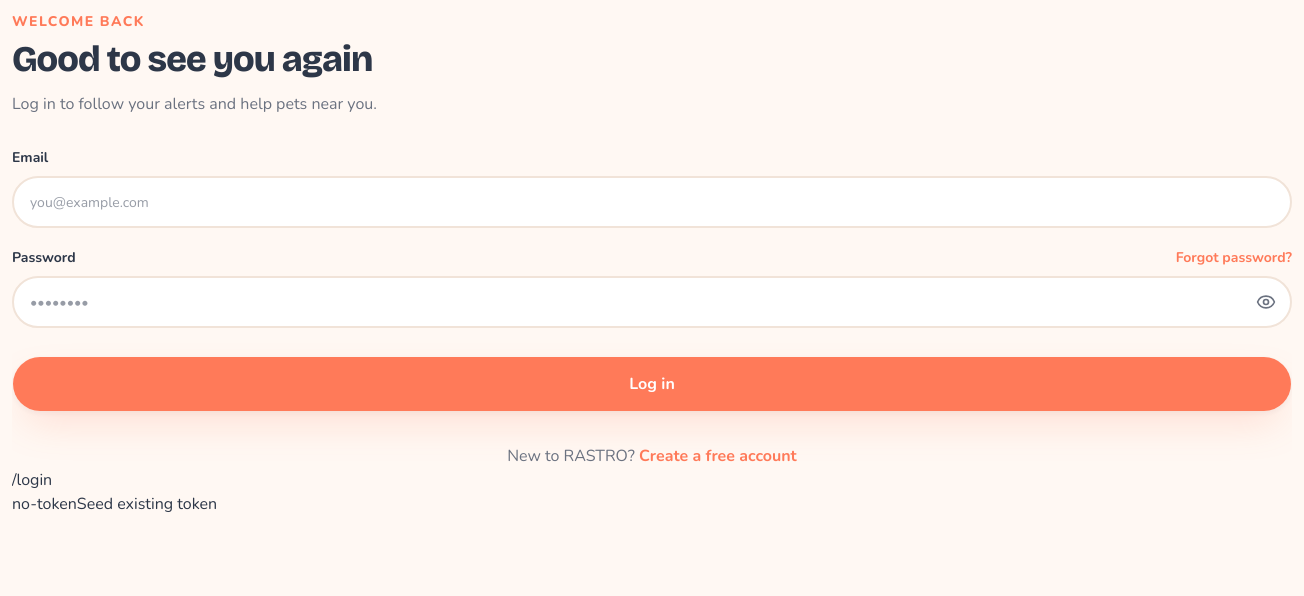
LoginForm › rejects an invalid access token returned by the backend
Type "person@example.com" into the field labelled "Email" at (652, 202), box [12,176,1292,228]
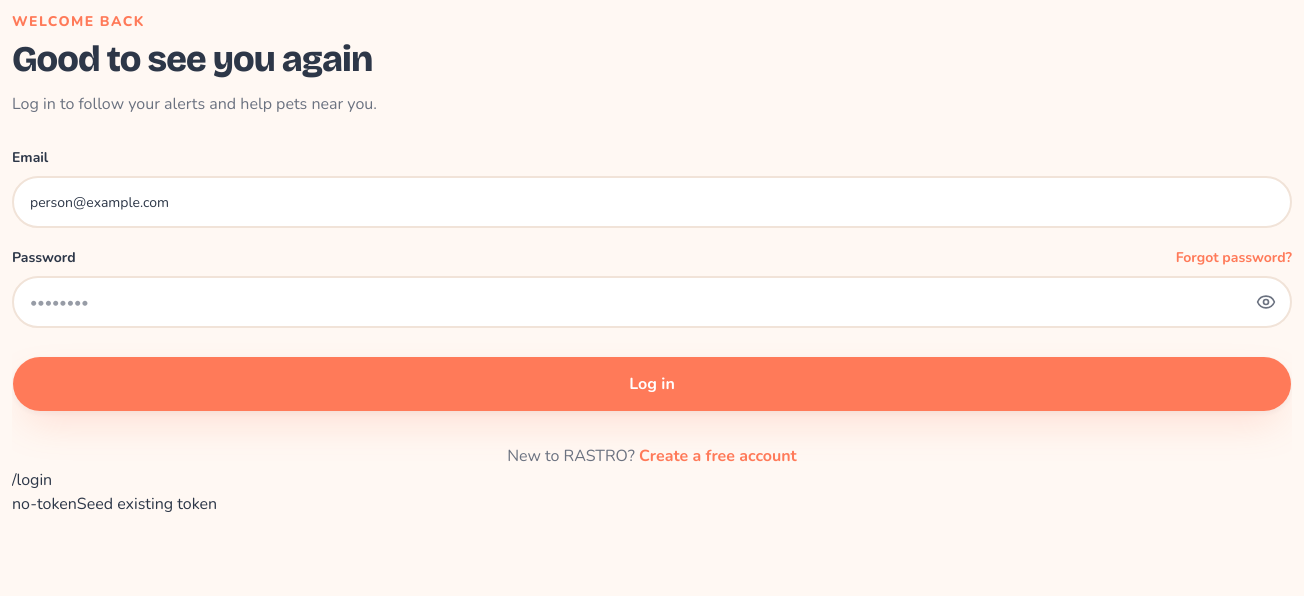
Type "password" into the password field labelled "Password" at (652, 302), box [12,276,1292,328]
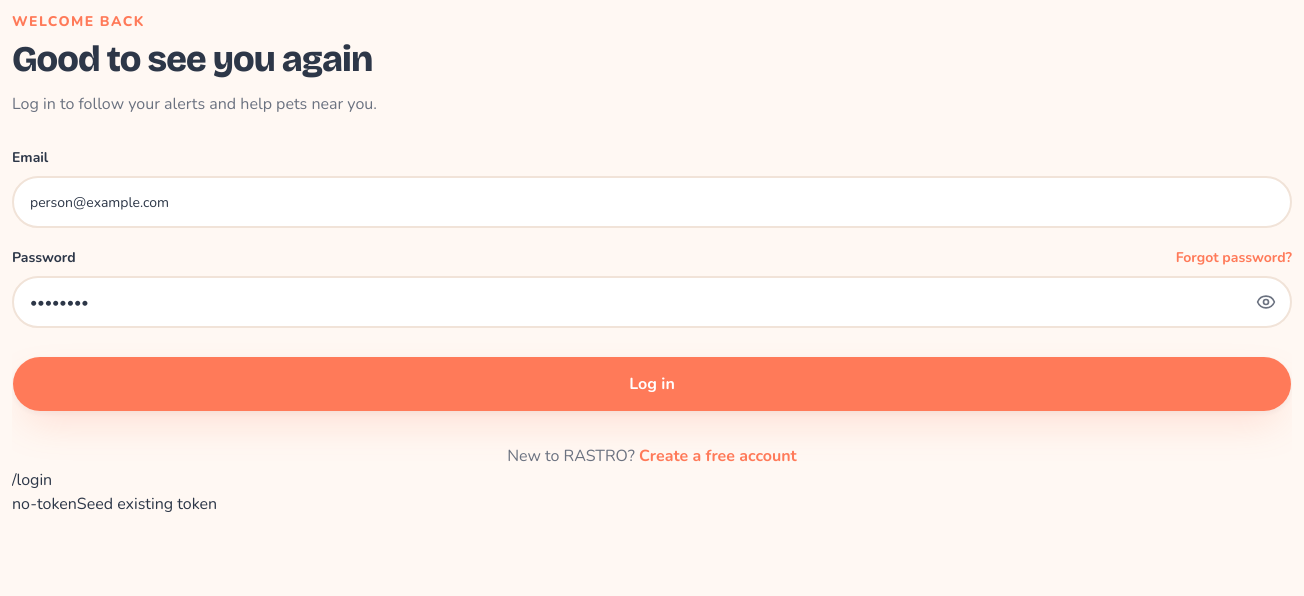
Submit the form, box [12,148,1292,412]
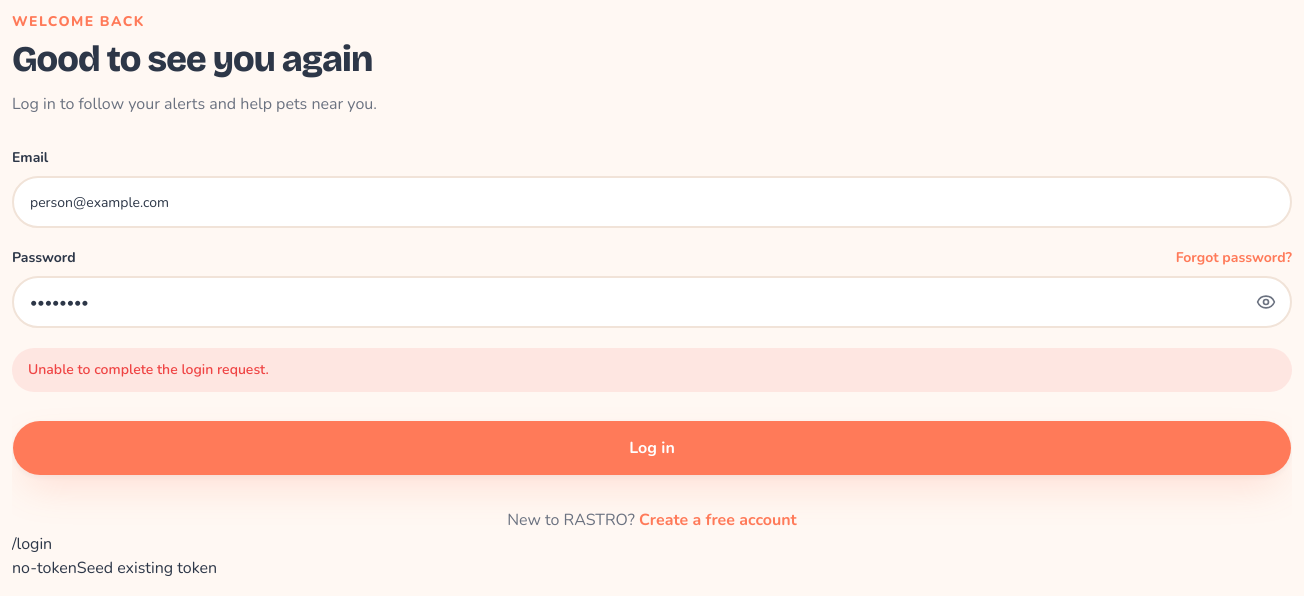
Expected: the text with test id "auth-state" reads "no-token", [12,557,77,579]
Expected: the message reads "Unable to complete the login request.", [28,360,269,379]
